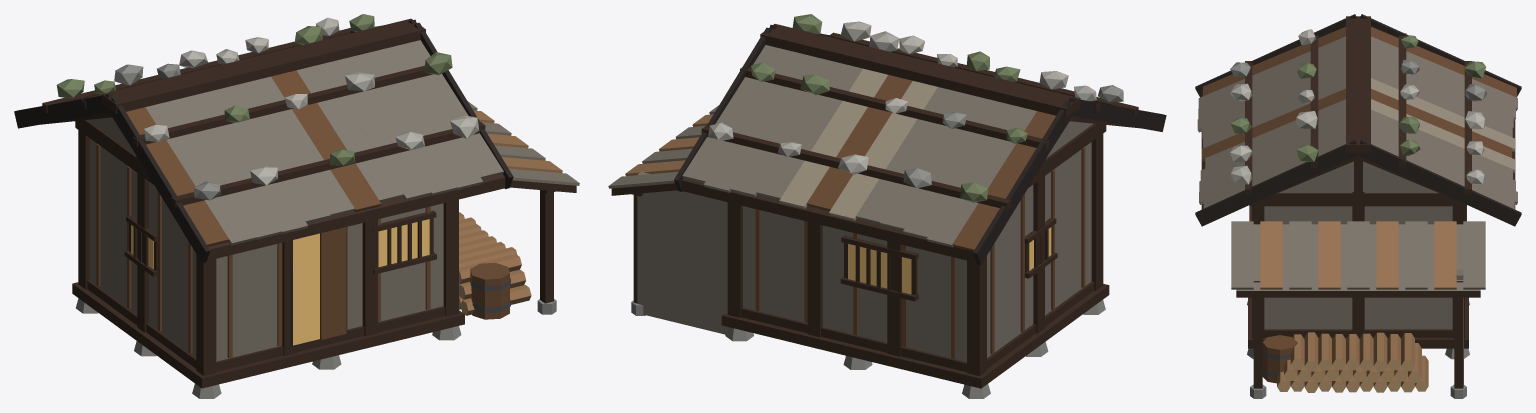
File: house_farmer_b.fbx
3 views of the same model, side by side, from view 1: azimuth 30°, elevation 25°; view 2: azimuth 150°, elevation 25°; view 3: azimuth 270°, elevation 25° (orthographic). The views are drawn at different scales.
Parts seen in each view (by area): view 1: house_farmer_b; view 2: house_farmer_b; view 3: house_farmer_b.
Part boxes in pixels (box(x1,y1,x2,y2)): house_farmer_b: box(14, 14, 579, 398); house_farmer_b: box(608, 14, 1166, 398); house_farmer_b: box(1195, 14, 1521, 398).
Size of the model in its own units: 6.21 by 3.96 by 5.21.
